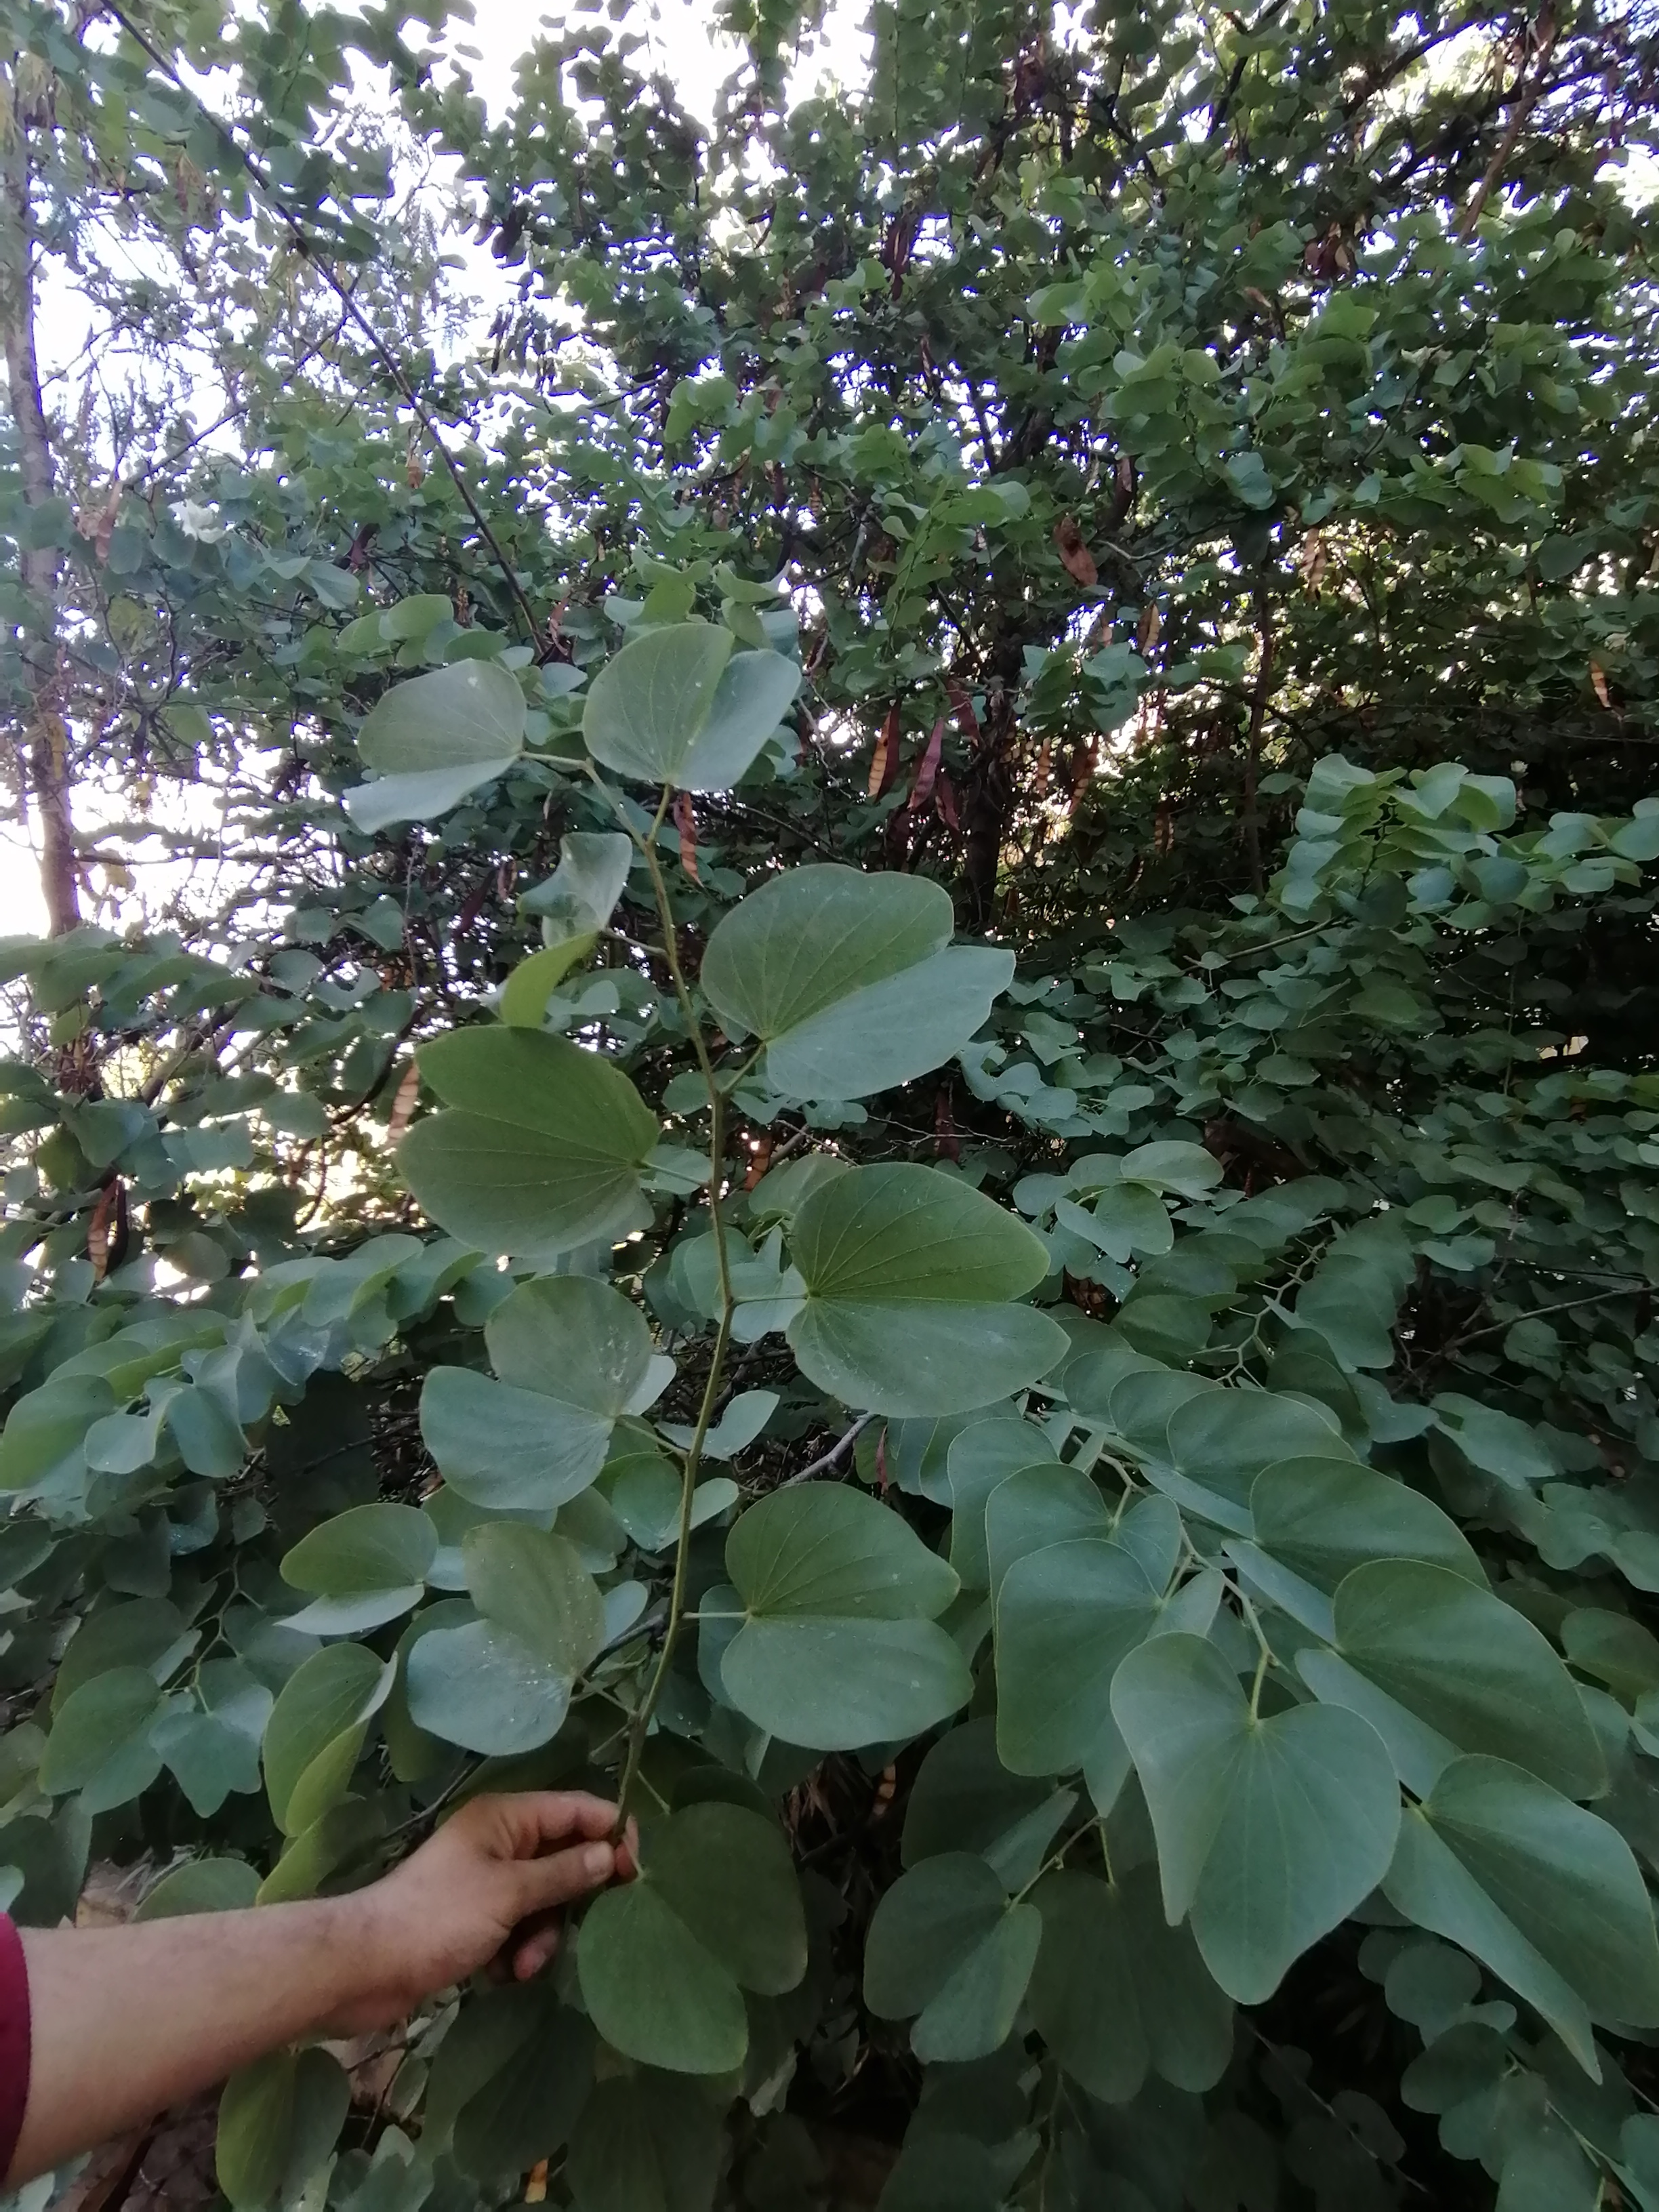healthy: (1366, 1750, 1659, 2106), (1117, 1625, 1389, 1998), (714, 827, 1026, 1127), (1298, 1545, 1608, 1820), (774, 1169, 1066, 1414), (579, 1806, 842, 2078), (416, 1266, 690, 1515), (375, 1045, 695, 1251), (718, 1489, 972, 1742), (1223, 1446, 1485, 1683), (380, 1522, 610, 1766), (842, 1808, 1042, 2078), (314, 643, 538, 834), (593, 610, 802, 801), (1155, 1388, 1359, 1564), (209, 1606, 376, 1820), (288, 1475, 429, 1656), (24, 1665, 181, 1820)
